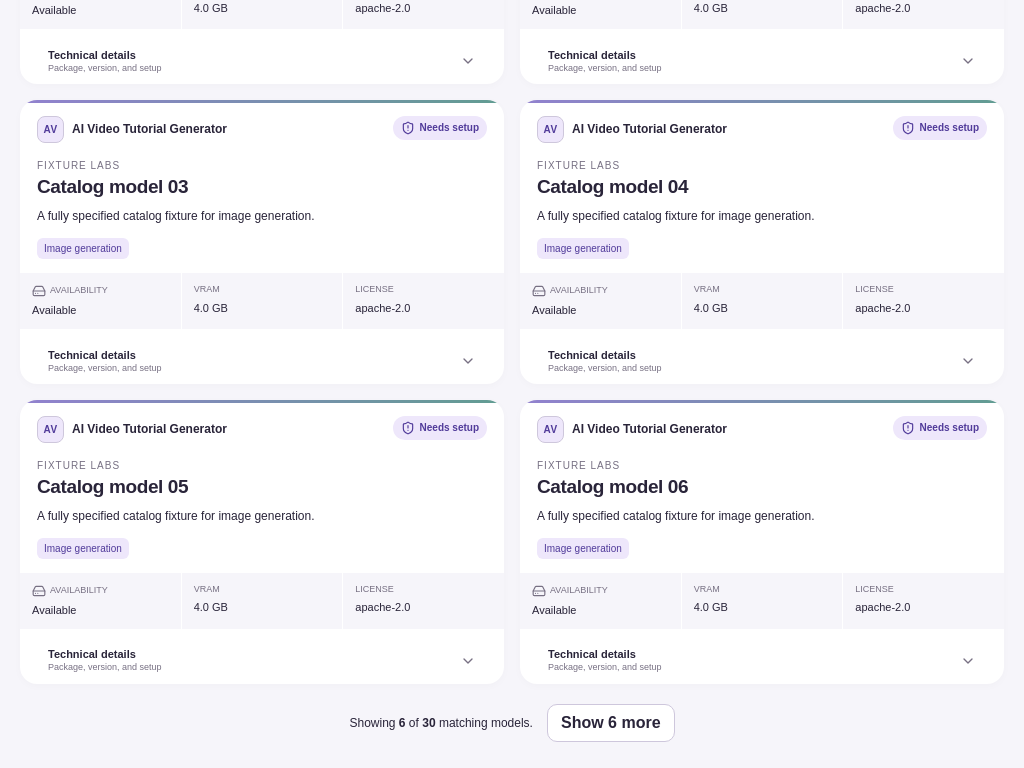
catalog selection controls › renders large result sets in responsive batches without hiding the exact total
(page scrolled)
Expected: the text "Showing 6 of 30 matching models." is shown, [350,716,533,730]
Click the button "Show 6 more" at [611, 722], box [547,704,675,742]
(page scrolled)
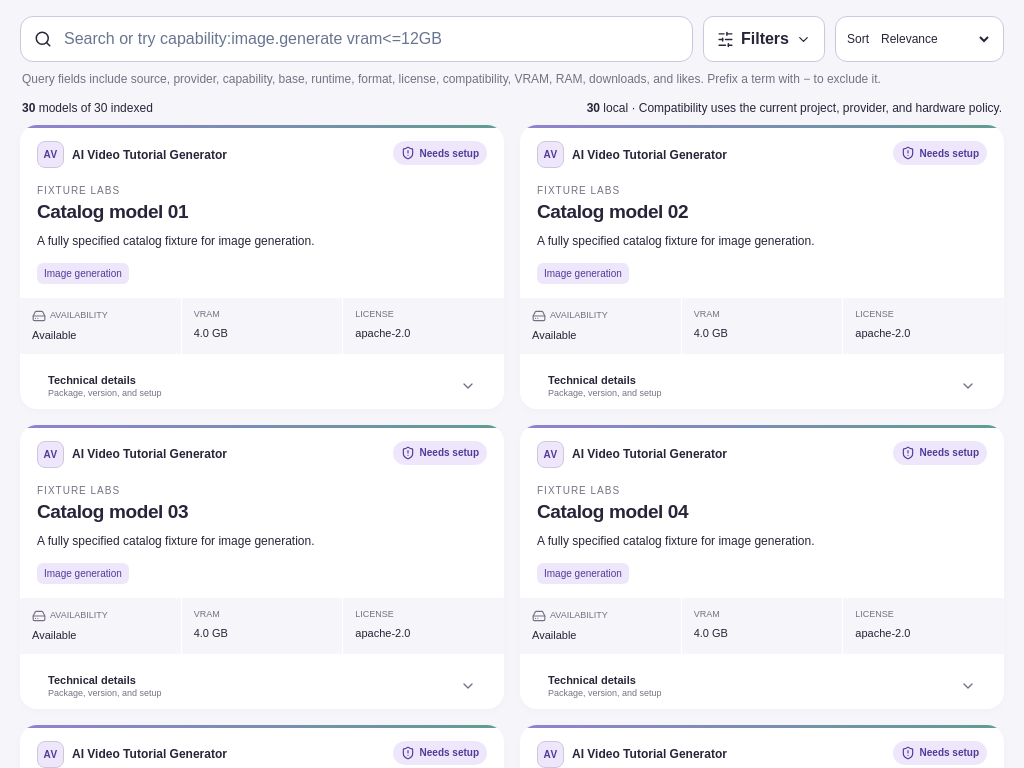
Expected: the number of headings "Catalog model 01" is 12
Type "Catalog model 30" into the search field named "Search models" at [370, 39], box [62,29,679,49]
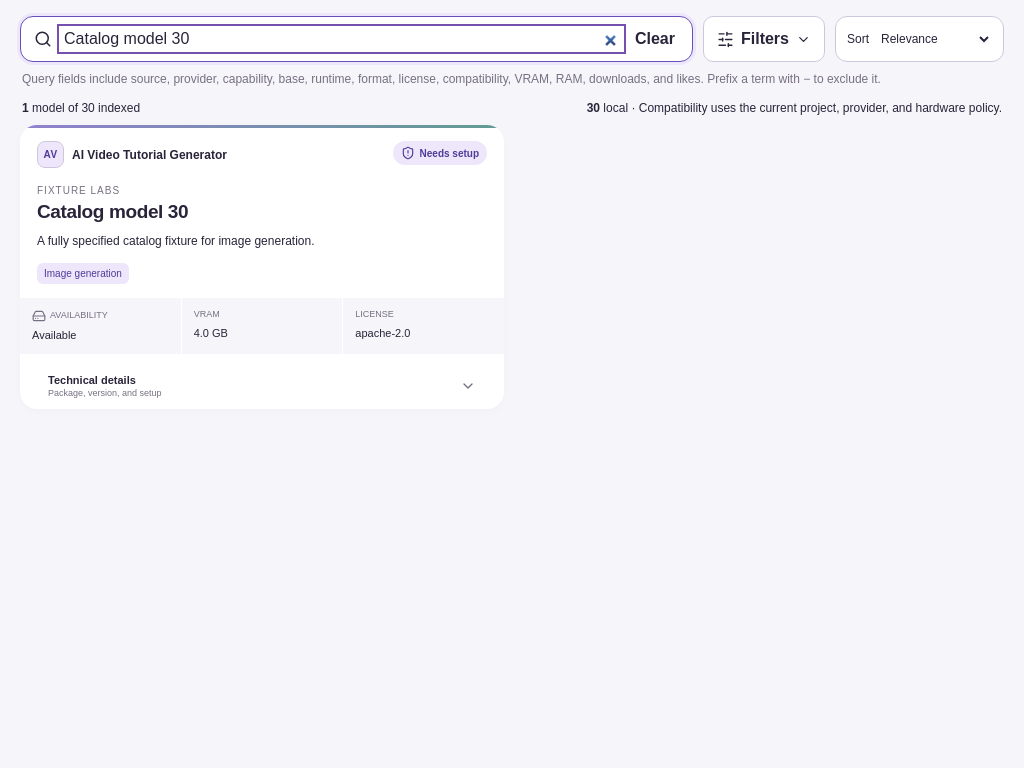
Expected: the button "Show 6 more" is not shown
Expected: the number of headings "Catalog model 30" is 1, [37,201,188,222]
